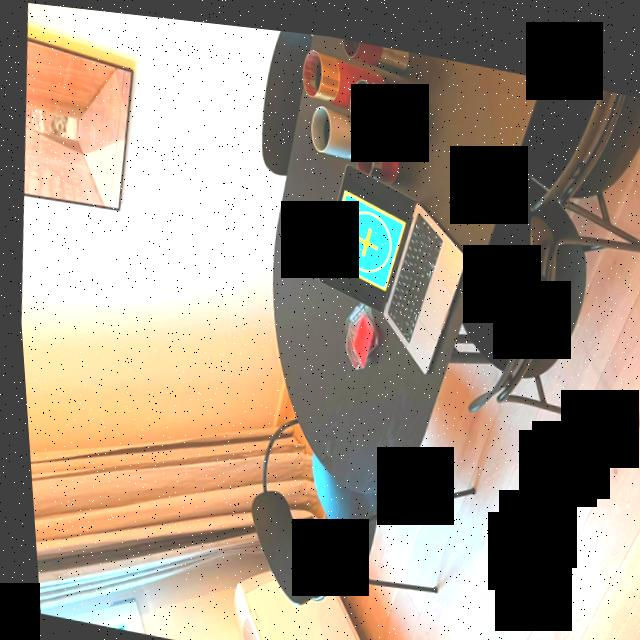Marker: (316, 179, 408, 286)
